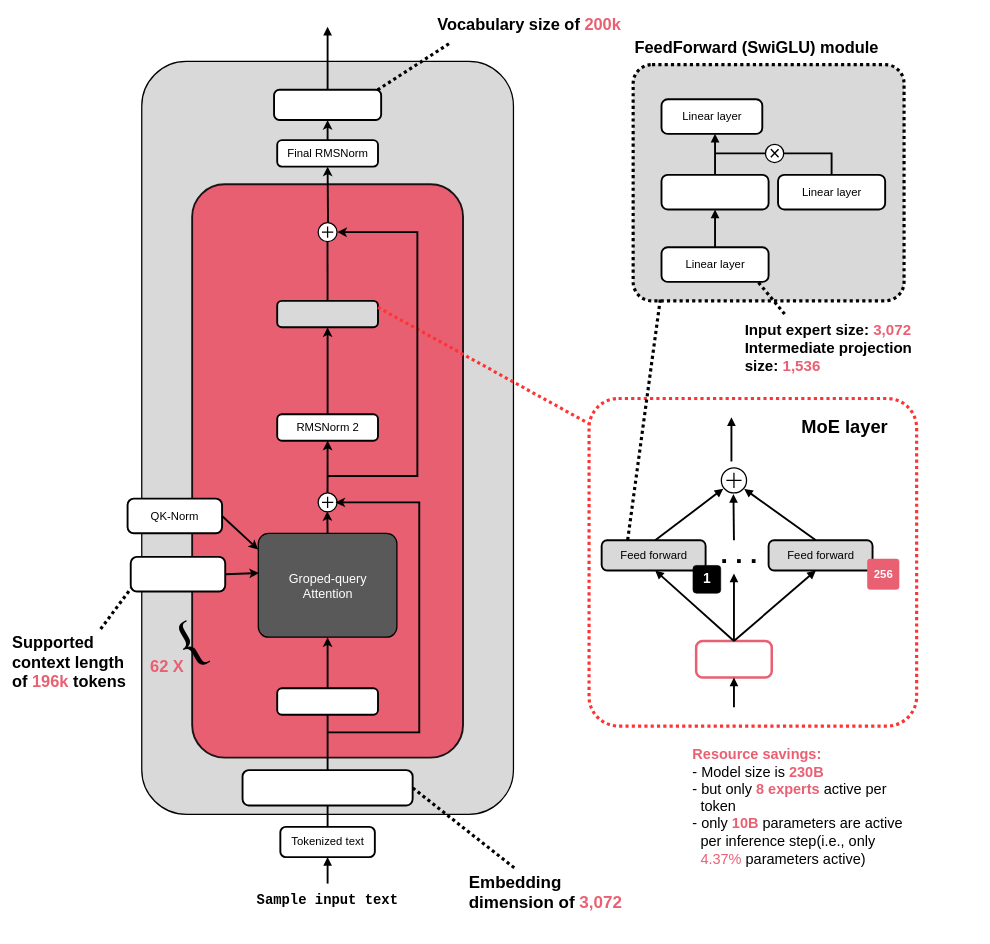
Image size: 990x944. Some labels were removed from this diagram. Each missing label, with the box of its shape:
Linear output layer: (273, 89, 382, 121)
MoE: (276, 300, 379, 328)
RMSNorm 1: (276, 687, 379, 715)
RoPE: (129, 556, 226, 592)
Router: (695, 639, 773, 679)
SiLU activation: (660, 174, 769, 210)
Token embedding layer: (241, 769, 413, 806)
